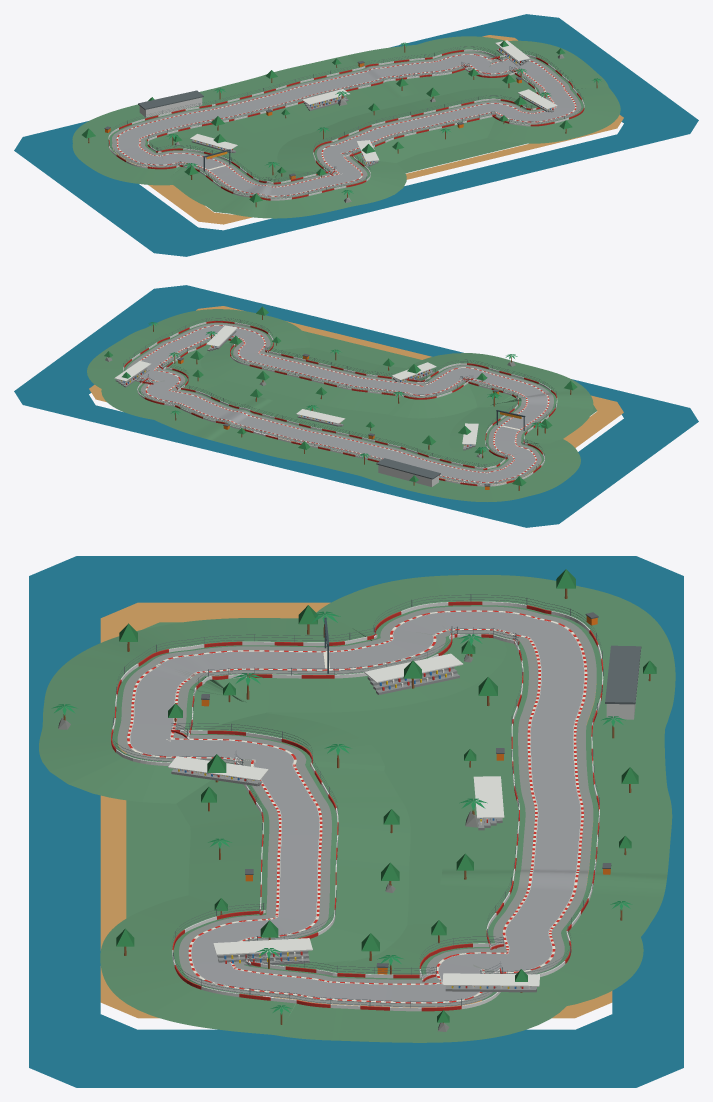
Rendered from sunset_cove.glb.
3 renders of one model, top to bottom at view 1: azimuth 30°, elevation 25°; view 2: azimuth 150°, elevation 25°; view 3: azimuth 270°, elevation 25°, orthographic. The views are drawn at different scales.
Parts seen in each view (by area): view 1: track_embankment, ocean, track_surface, track_runoff, island_vegetation, continuous_safety_barriers, sand_island, track_curbs, formula_grandstands, continuous_catch_fence, park_trees, pit_buildings (+1 smaller); view 2: track_embankment, ocean, track_surface, track_runoff, island_vegetation, continuous_safety_barriers, sand_island, track_curbs, formula_grandstands, continuous_catch_fence, park_trees, pit_buildings (+1 smaller); view 3: track_embankment, ocean, track_surface, track_runoff, island_vegetation, continuous_safety_barriers, sand_island, formula_grandstands, track_curbs, continuous_catch_fence, park_trees, pit_buildings (+2 smaller).
Boxes of the visible parts, x1,y1,x2,y2 form: track_embankment: (72, 36, 620, 218); ocean: (14, 14, 698, 256); track_surface: (118, 54, 574, 195); track_runoff: (112, 52, 581, 198); island_vegetation: (149, 74, 579, 213); continuous_safety_barriers: (108, 49, 584, 200); sand_island: (113, 35, 623, 224); track_curbs: (116, 54, 576, 196); formula_grandstands: (190, 40, 557, 166); continuous_catch_fence: (108, 46, 584, 198); park_trees: (82, 40, 572, 207); pit_buildings: (138, 90, 203, 117); track_embankment: (87, 309, 593, 501); ocean: (14, 285, 698, 527); track_surface: (140, 326, 547, 481); track_runoff: (126, 323, 553, 484); island_vegetation: (143, 330, 596, 484); continuous_safety_barriers: (123, 321, 557, 486); sand_island: (89, 306, 623, 484); track_curbs: (140, 325, 549, 482); formula_grandstands: (114, 325, 478, 450); continuous_catch_fence: (123, 317, 556, 484); park_trees: (104, 306, 577, 490); pit_buildings: (376, 458, 440, 486); track_embankment: (39, 575, 675, 1042); ocean: (29, 556, 683, 1087); track_surface: (129, 611, 584, 1002); track_runoff: (117, 606, 596, 1007); island_vegetation: (126, 622, 586, 996); continuous_safety_barriers: (111, 601, 603, 1011); sand_island: (100, 602, 612, 1018); formula_grandstands: (168, 653, 540, 992); track_curbs: (127, 610, 587, 1003); continuous_catch_fence: (111, 594, 603, 1007); park_trees: (116, 569, 656, 1023); pit_buildings: (605, 645, 641, 719).
Size of the model in its own units: 4985 by 209 by 2595.
